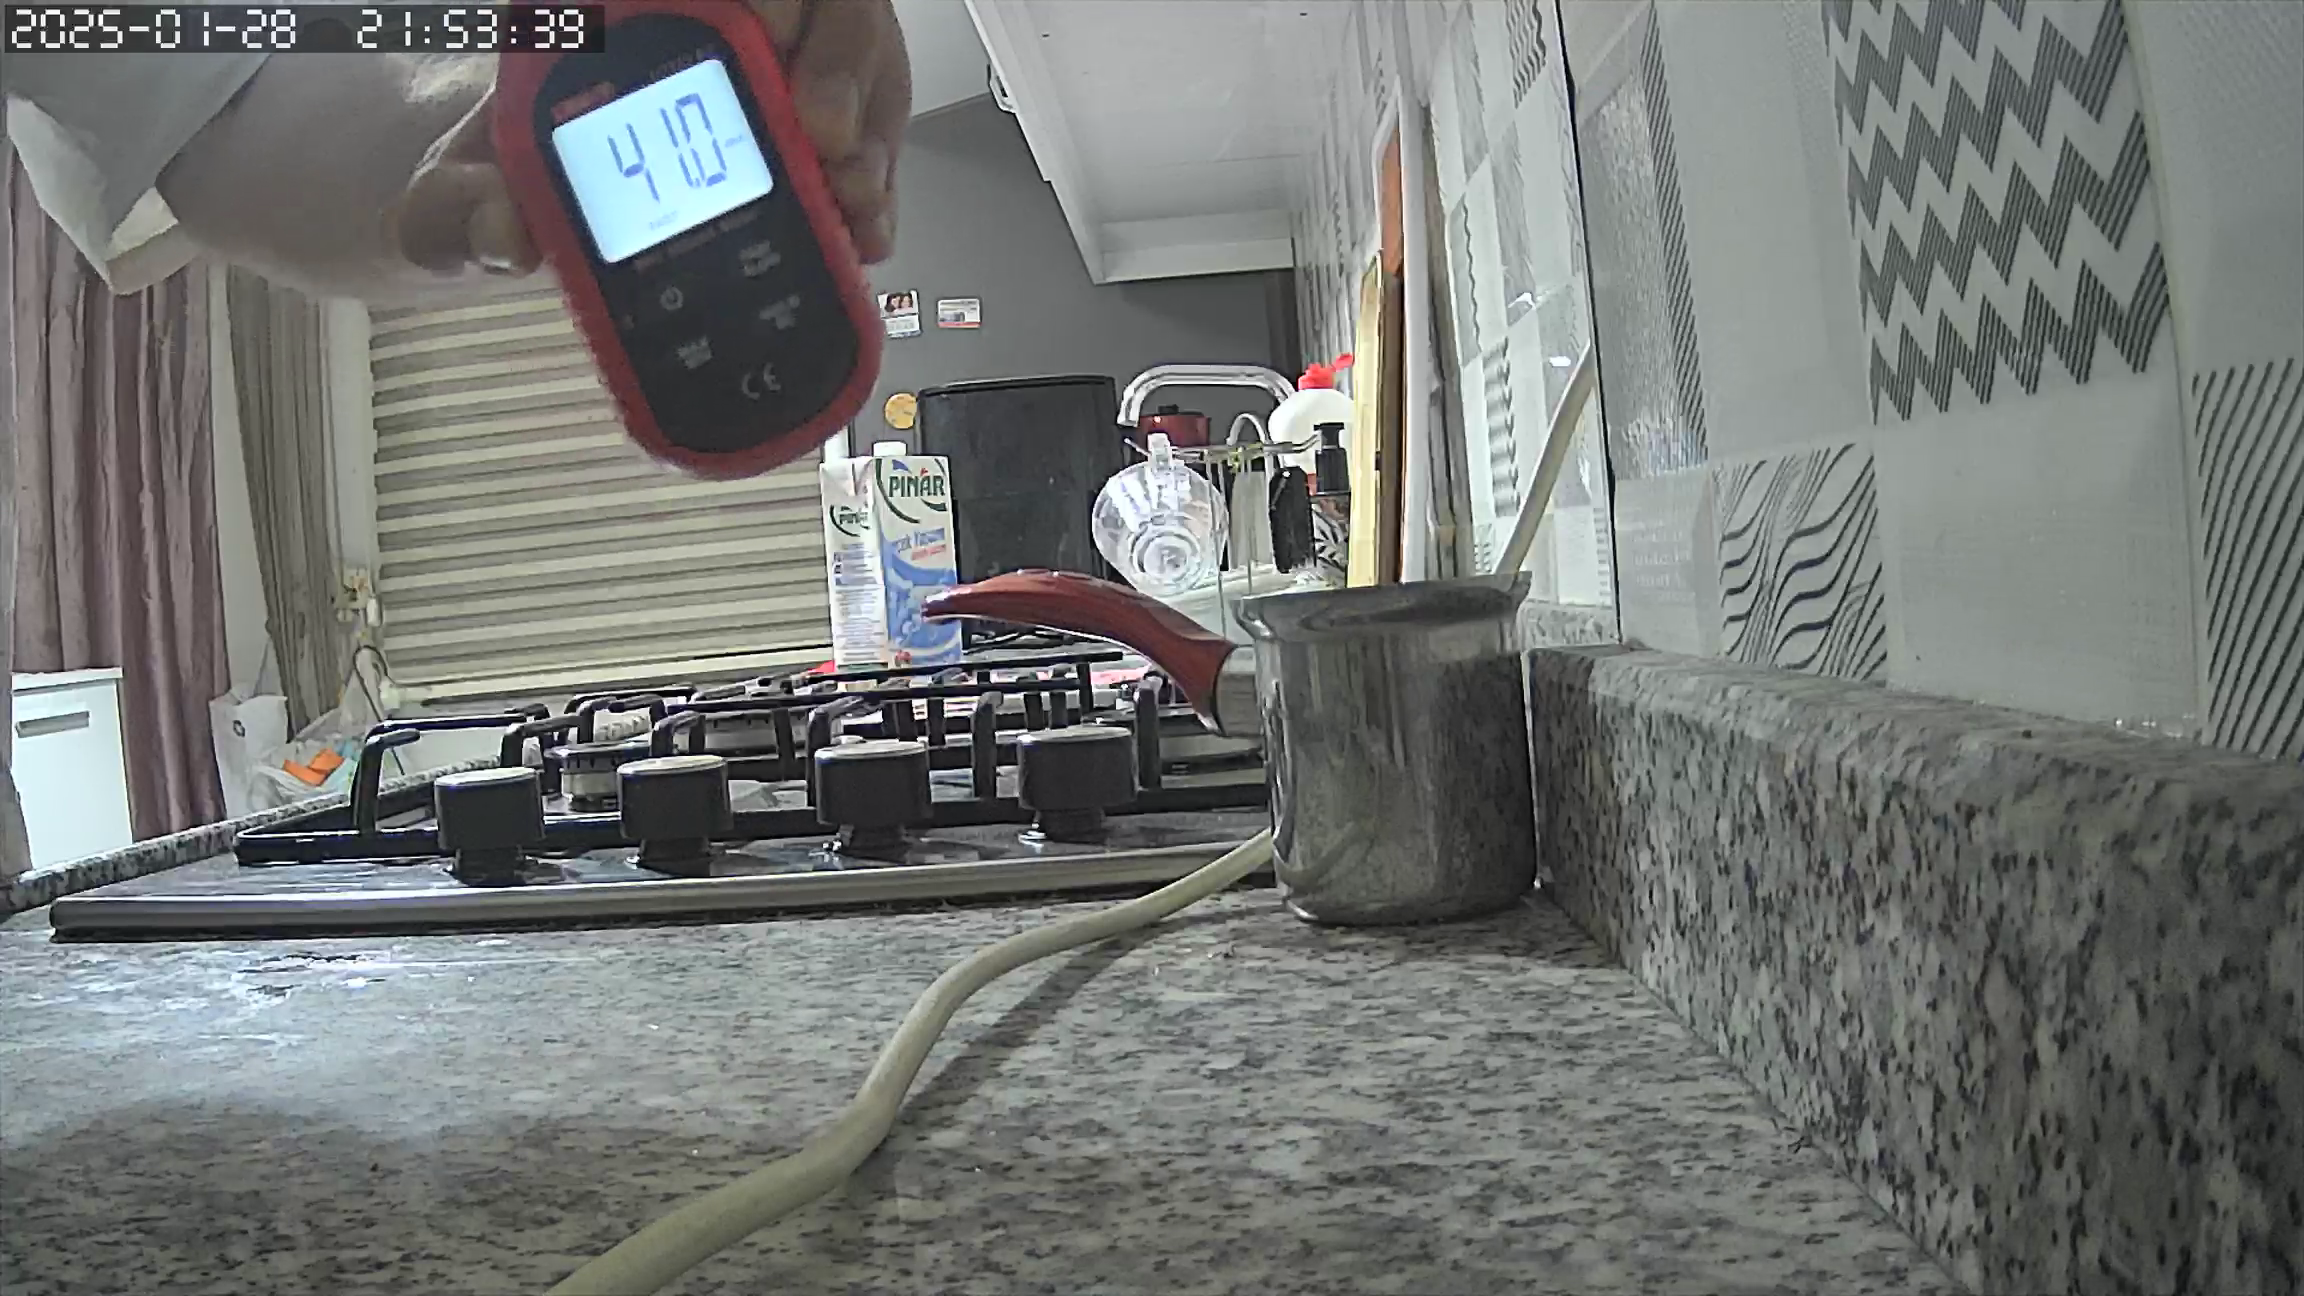screen: (551, 55, 771, 258)
